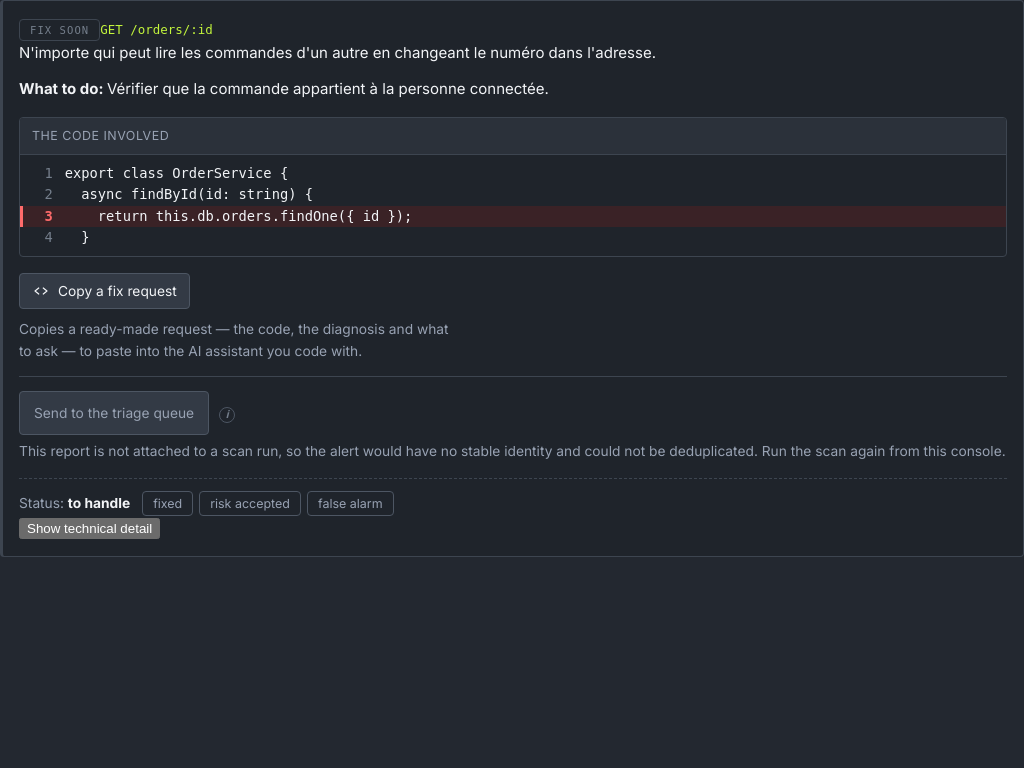
Test: Carte de faille › traduit les libellés du détail technique
This screenshot has width=1024, height=768.
Click the button "Show technical detail".
click(90, 528)  # box [19,518,160,539]
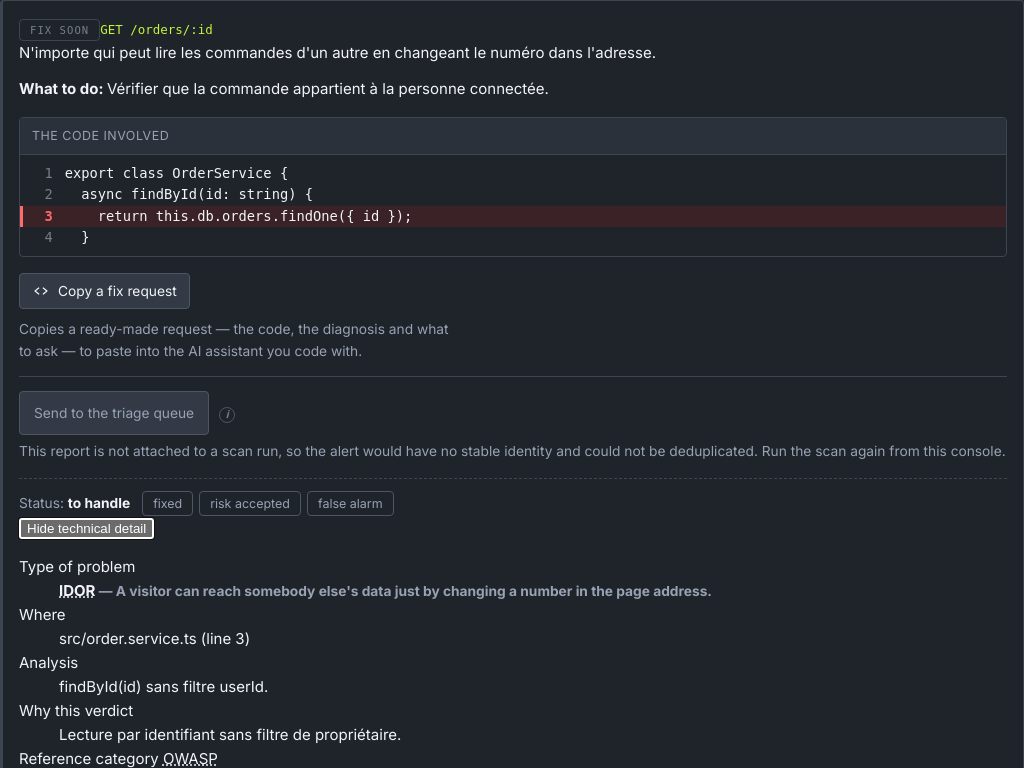
Result: the text "Type of problem" is shown at [19,557,135,576]
Result: the text "Where" is shown at [19,605,66,624]
